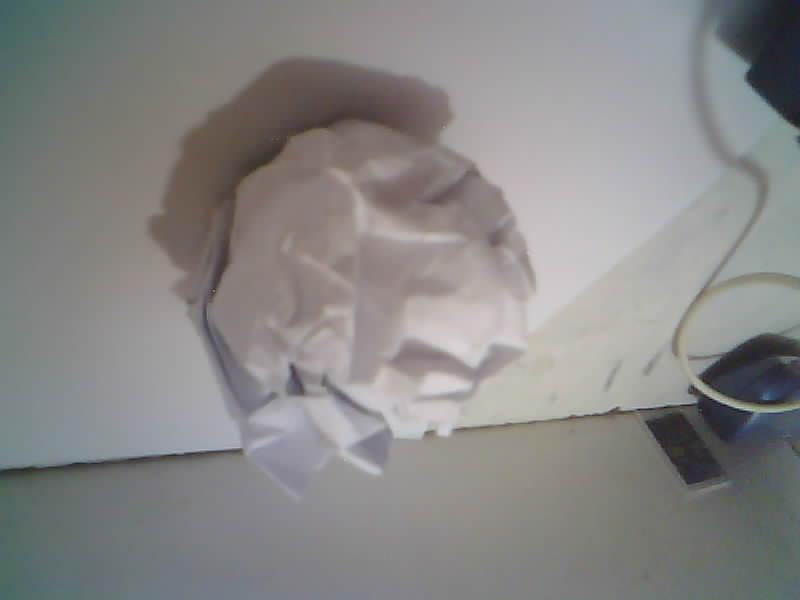biodegradable: (189, 119, 534, 496)
